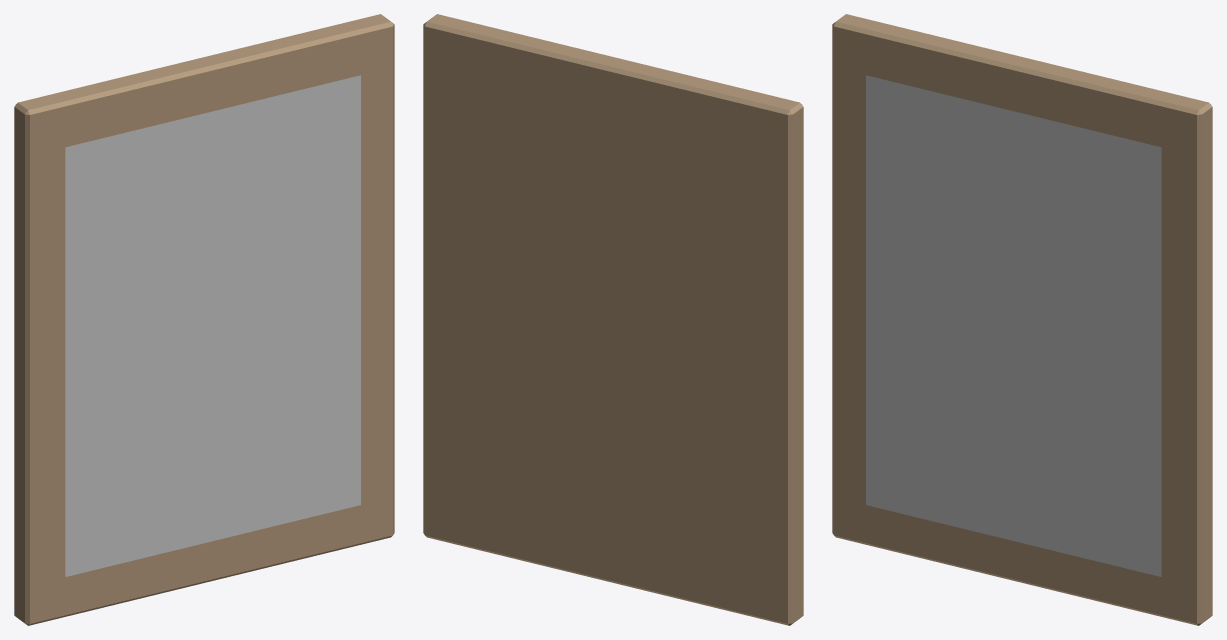
Rendered from picture_b.glb.
The picture shows the model from 3 angles, left to right: view 1: azimuth 30°, elevation 25°; view 2: azimuth 150°, elevation 25°; view 3: azimuth 330°, elevation 25°; orthographic projection.
Visible parts, largest first — view 1: picture_b; view 2: picture_b; view 3: picture_b.
Part boxes in pixels (box(x1,y1,x2,y2)): picture_b: box(14, 14, 394, 625); picture_b: box(423, 14, 803, 625); picture_b: box(832, 14, 1212, 625).
Size of the model in its own units: 0.45 by 0.6 by 0.033.
